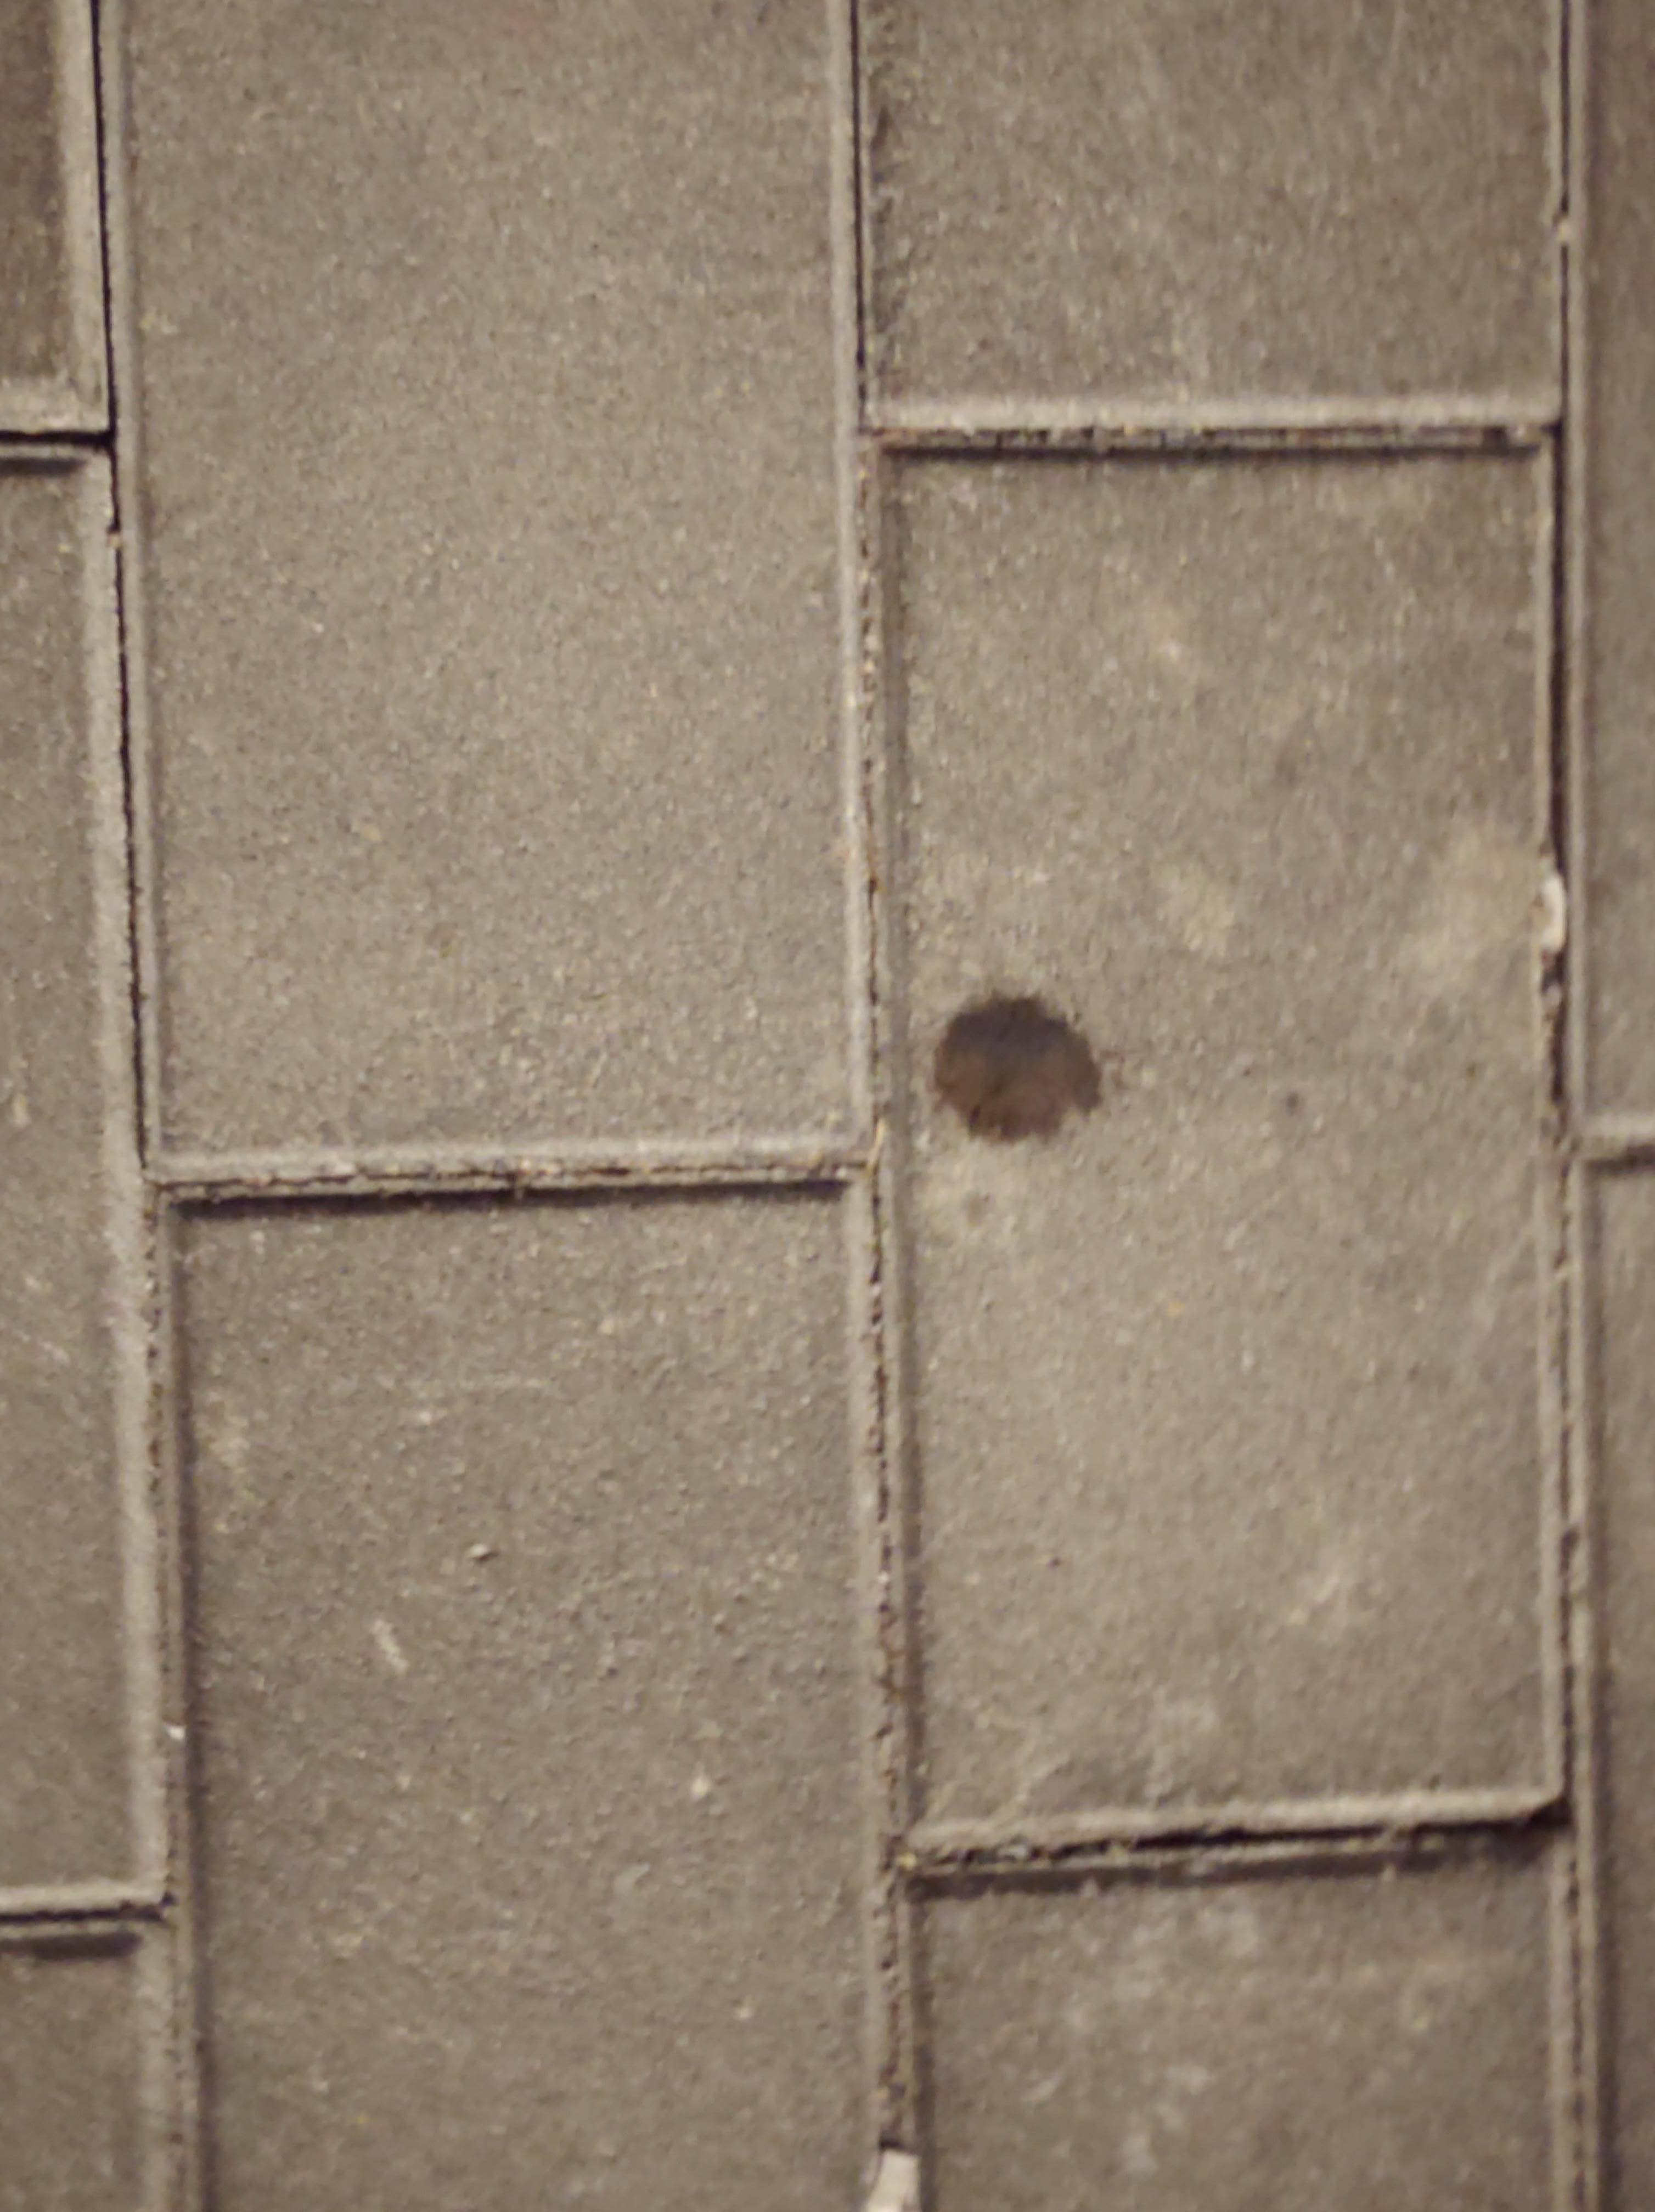grey spot: (927, 996, 1106, 1147)
